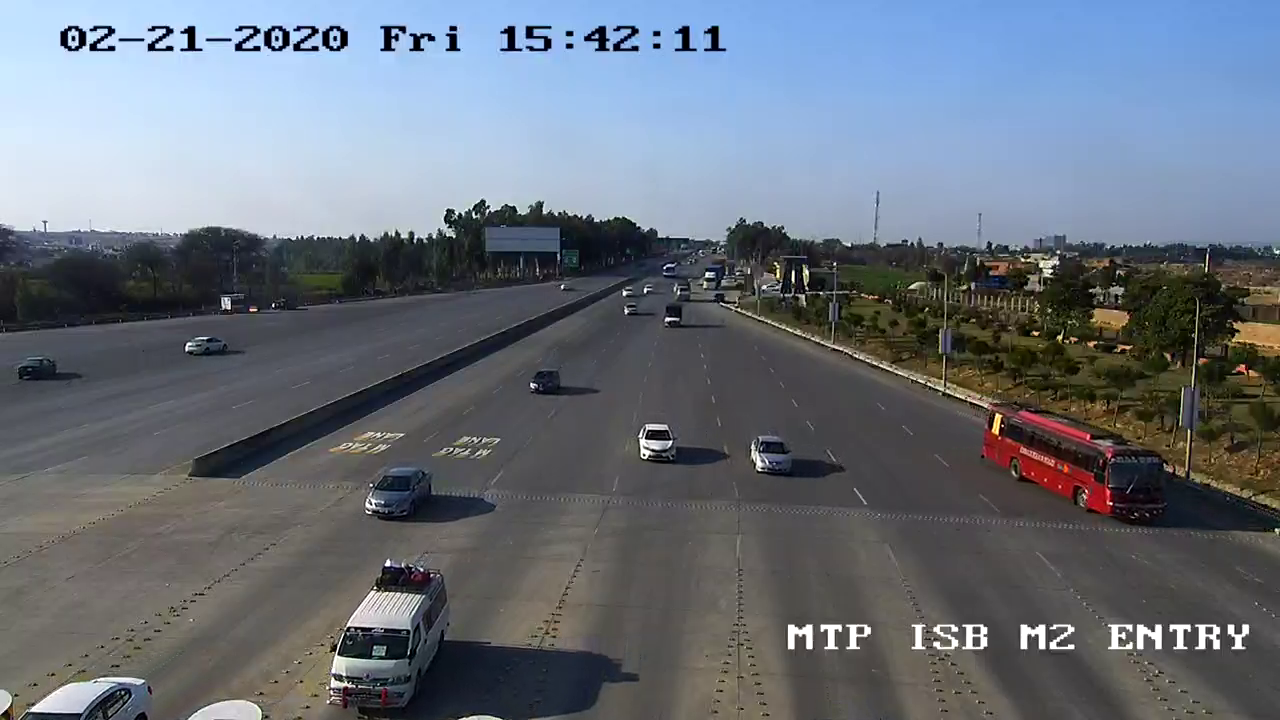f1: (359, 463, 442, 528), (631, 417, 682, 472), (745, 429, 797, 480), (522, 364, 566, 401)
f2: (315, 557, 460, 720)
f4: (974, 395, 1174, 532)
